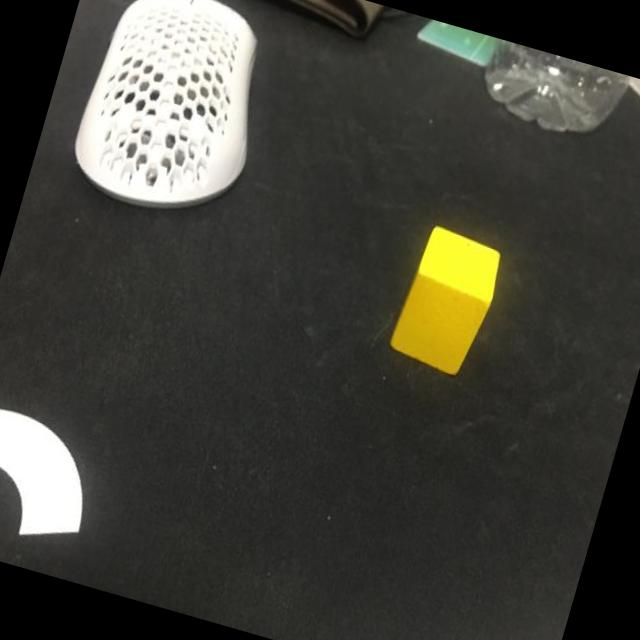yellow: (387, 222, 508, 382)
